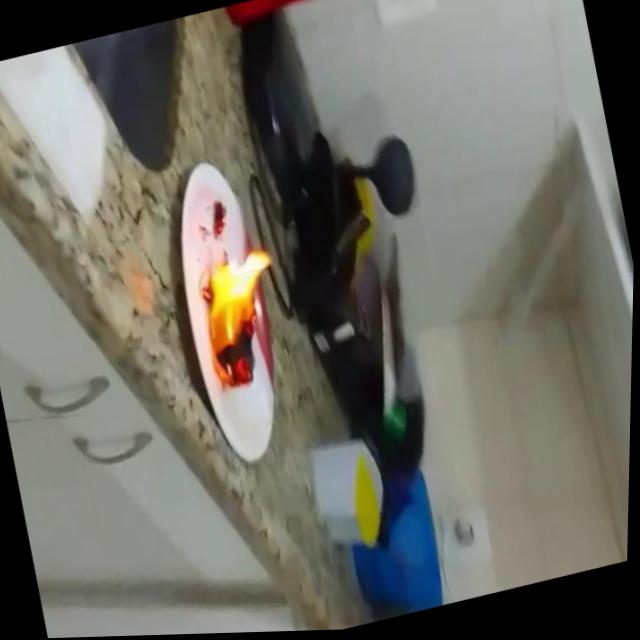Fire: (185, 242, 298, 400)
